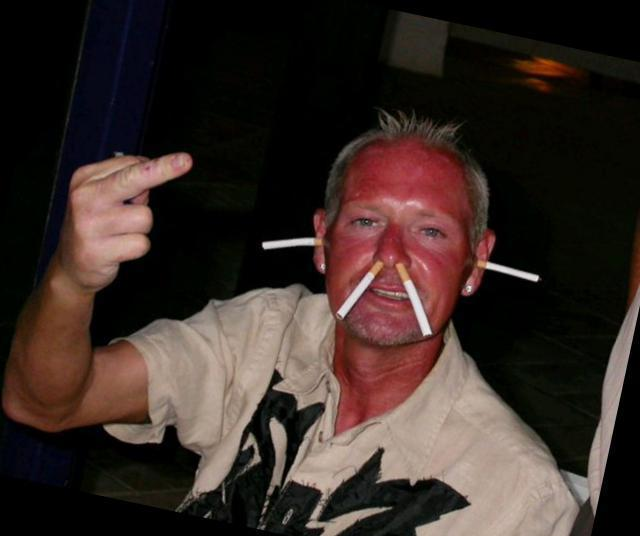Drunk: (340, 141, 469, 345)
